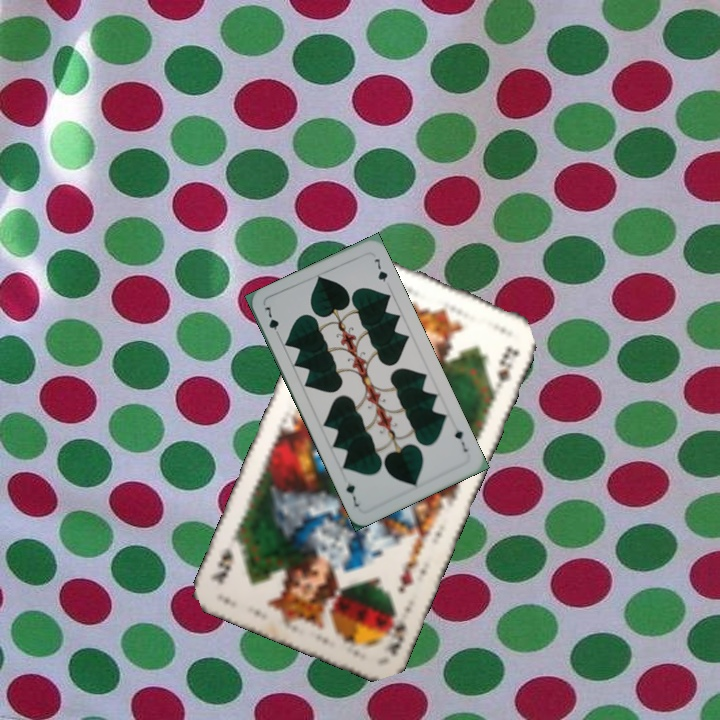G7: (260, 303, 283, 341), (450, 421, 470, 454)
SK: (381, 603, 409, 660)
